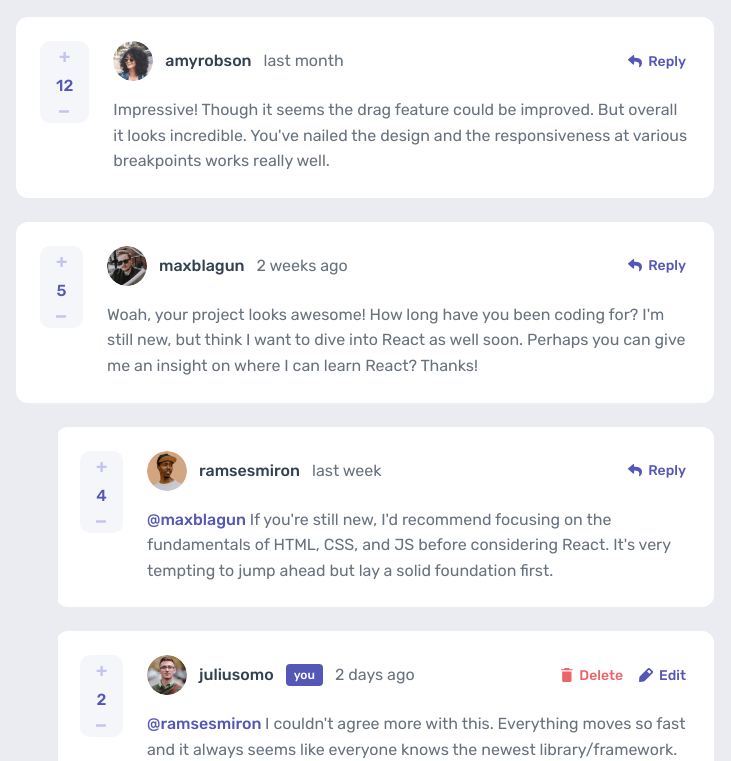
Test: App integration › clicking Update saves edited content
The width and height of the screenshot is (731, 761).
Click the button "Edit". click: (663, 675)
box: [635,661,690,690]
(page scrolled)
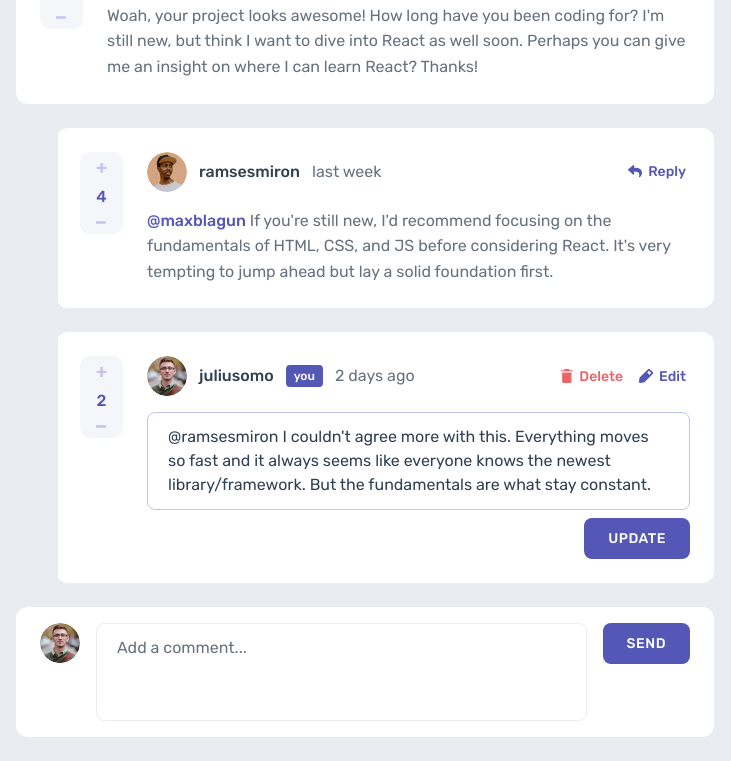
Replace the text in the 1st text box with "Updated comment text". click: (418, 461)
box: [147,412,690,510]
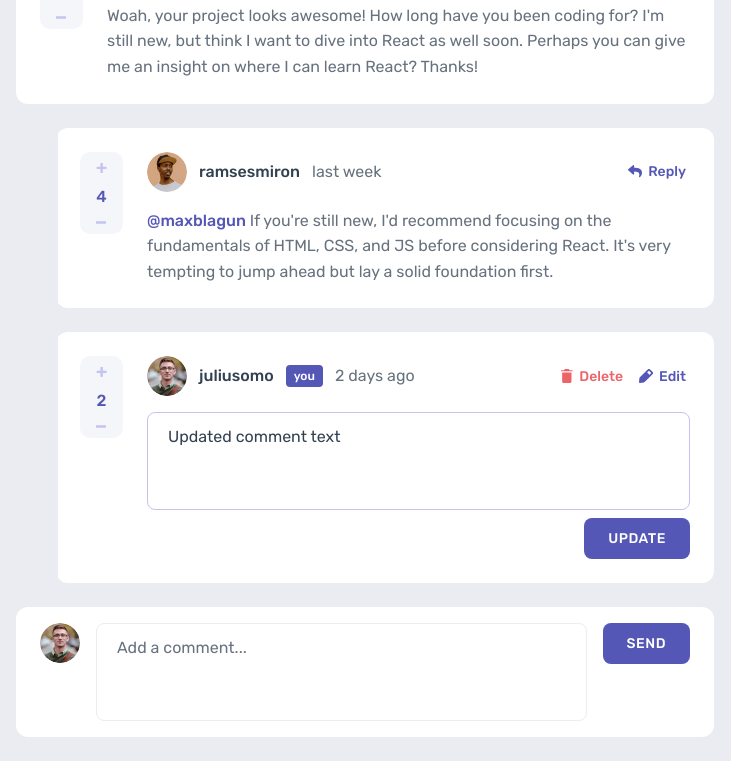
Click the button "UPDATE". click: (637, 539)
box: [584,518,690,559]
(page scrolled)
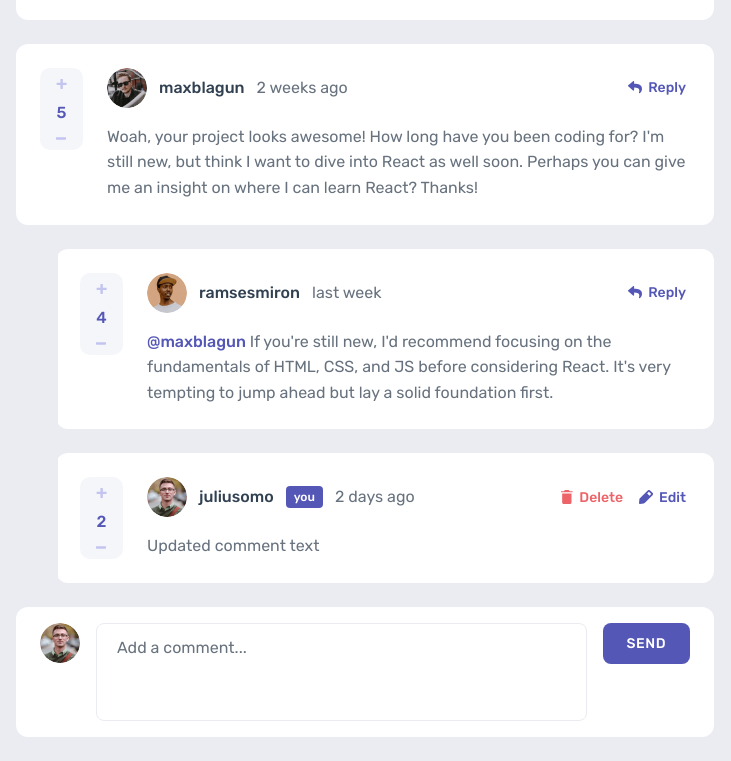
Check: the text "Updated comment text" is shown, box [147,536,320,555]
